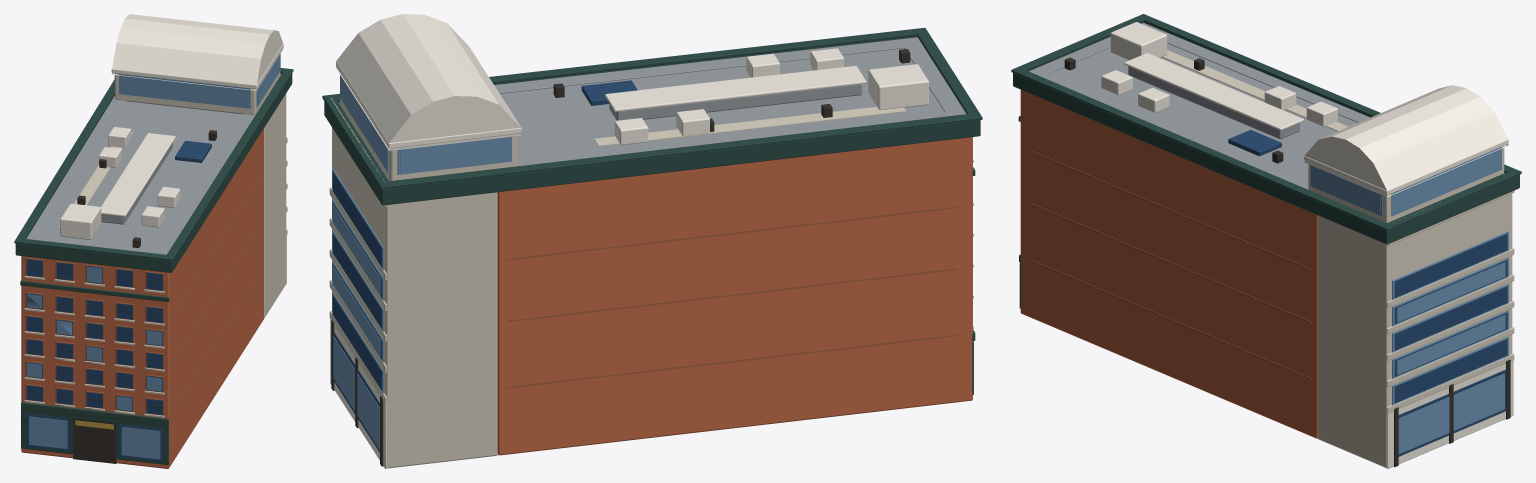
File: 131-steuart.glb
The picture shows the model from 3 angles, left to right: view 1: azimuth 30°, elevation 25°; view 2: azimuth 150°, elevation 25°; view 3: azimuth 270°, elevation 25°; orthographic projection. The views are drawn at different scales.
Visible parts, largest first — view 1: body_brick, grp_Toy_cream, grp_Toy_sash, grp_Toy_glass, grp_Toy_glassl_Glow, grp_Toy_steel, body_stone, grp_Toy_rust, grp_Toy_ink, grp_Toy_stone, pent_body, grp_Toy_glassl; view 2: body_brick, body_stone, grp_Toy_cream, grp_Toy_sash, grp_Toy_steel, grp_Toy_glassl_Glow, grp_Toy_glass, grp_Toy_stone, grp_Toy_rust, grp_Toy_glassl, pent_body, grp_Toy_ink; view 3: body_brick, grp_Toy_cream, body_stone, grp_Toy_sash, grp_Toy_glassl_Glow, grp_Toy_glass, grp_Toy_steel, grp_Toy_stone, grp_Toy_glassl, grp_Toy_rust, pent_body, grp_Toy_ink.
Boxes of the visible parts, x1=… form: body_brick: x1=21, y1=101, x2=263, y2=468; grp_Toy_cream: x1=60, y1=14, x2=286, y2=283; grp_Toy_sash: x1=14, y1=68, x2=293, y2=464; grp_Toy_glass: x1=26, y1=140, x2=211, y2=461; grp_Toy_glassl_Glow: x1=27, y1=54, x2=280, y2=459; grp_Toy_steel: x1=26, y1=74, x2=281, y2=254; body_stone: x1=264, y1=93, x2=286, y2=318; grp_Toy_rust: x1=25, y1=175, x2=263, y2=415; grp_Toy_ink: x1=26, y1=130, x2=216, y2=463; grp_Toy_stone: x1=24, y1=132, x2=287, y2=417; pent_body: x1=115, y1=72, x2=280, y2=114; grp_Toy_glassl: x1=114, y1=54, x2=280, y2=108; body_brick: x1=497, y1=48, x2=972, y2=455; body_stone: x1=332, y1=127, x2=497, y2=468; grp_Toy_cream: x1=330, y1=14, x2=928, y2=468; grp_Toy_sash: x1=322, y1=27, x2=982, y2=394; grp_Toy_steel: x1=339, y1=37, x2=966, y2=180; grp_Toy_glassl_Glow: x1=333, y1=75, x2=509, y2=449; grp_Toy_glass: x1=332, y1=80, x2=637, y2=452; grp_Toy_stone: x1=329, y1=98, x2=973, y2=403; grp_Toy_rust: x1=506, y1=206, x2=956, y2=388; grp_Toy_glassl: x1=332, y1=75, x2=511, y2=393; pent_body: x1=340, y1=98, x2=517, y2=180; grp_Toy_ink: x1=331, y1=49, x2=910, y2=466; body_brick: x1=1020, y1=43, x2=1357, y2=438; grp_Toy_cream: x1=1101, y1=22, x2=1513, y2=468; body_stone: x1=1318, y1=193, x2=1512, y2=467; grp_Toy_sash: x1=1011, y1=14, x2=1521, y2=308; grp_Toy_glassl_Glow: x1=1312, y1=149, x2=1505, y2=453; grp_Toy_glass: x1=1228, y1=130, x2=1507, y2=458; grp_Toy_steel: x1=1029, y1=23, x2=1370, y2=189; grp_Toy_stone: x1=1162, y1=50, x2=1514, y2=413; grp_Toy_glassl: x1=1310, y1=147, x2=1508, y2=405; grp_Toy_rust: x1=1030, y1=150, x2=1311, y2=380; pent_body: x1=1308, y1=146, x2=1504, y2=222; grp_Toy_ink: x1=1064, y1=57, x2=1510, y2=466.
Bounding box in the file's own units: 41.22 × 27.7 × 41.35.
